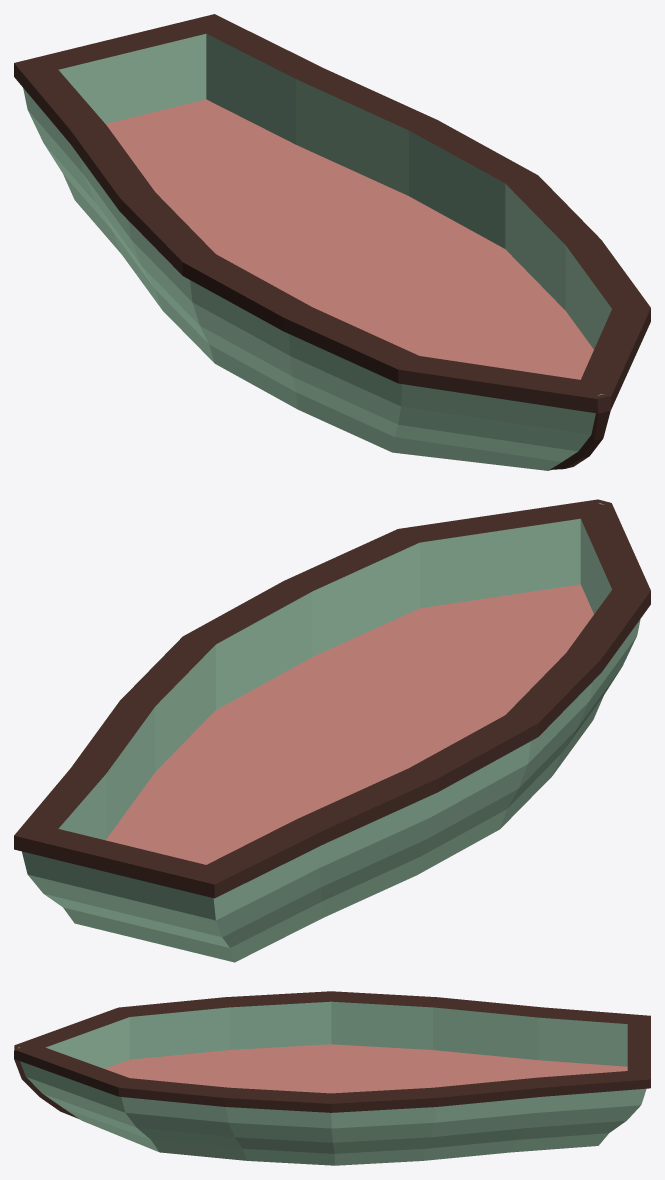
The model's file is boat_hull.glb.
3 renders of one model, top to bottom at view 1: azimuth 30°, elevation 25°; view 2: azimuth 150°, elevation 25°; view 3: azimuth 270°, elevation 25°, orthographic. The views are drawn at different scales.
Visible parts, largest first — view 1: Cube; view 2: Cube; view 3: Cube.
Part boxes in pixels (x1,y1,x2,y2): Cube: (14, 14, 650, 470); Cube: (14, 499, 650, 962); Cube: (14, 991, 650, 1165).
Size of the model in its own units: 4.87 by 1.47 by 11.64.
